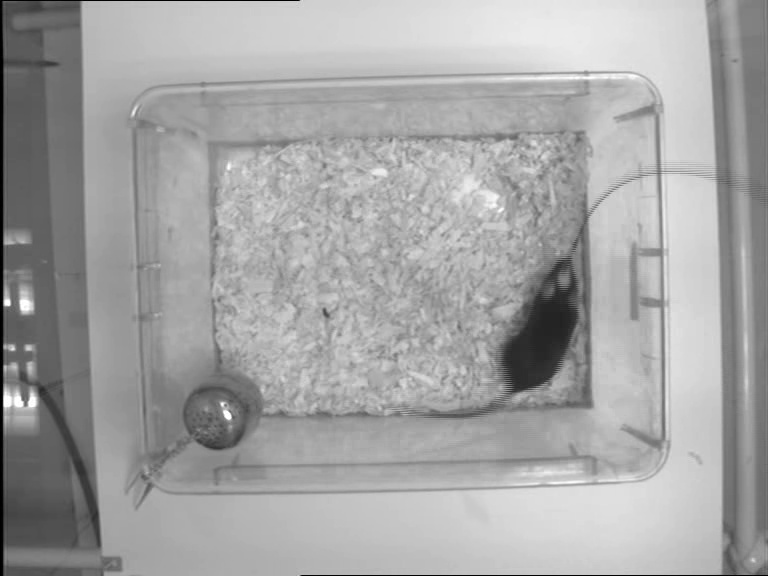mice: (431, 254, 578, 421)
